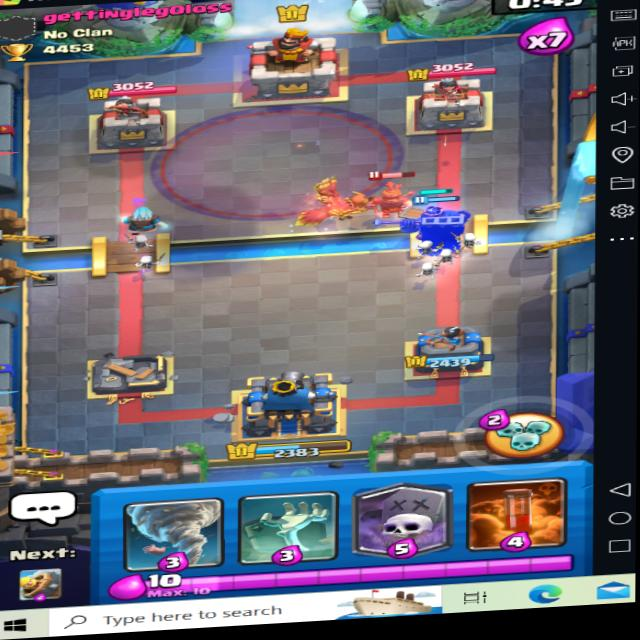graveyard: (165, 92, 398, 226)
royal-recruits: (358, 163, 430, 224)
